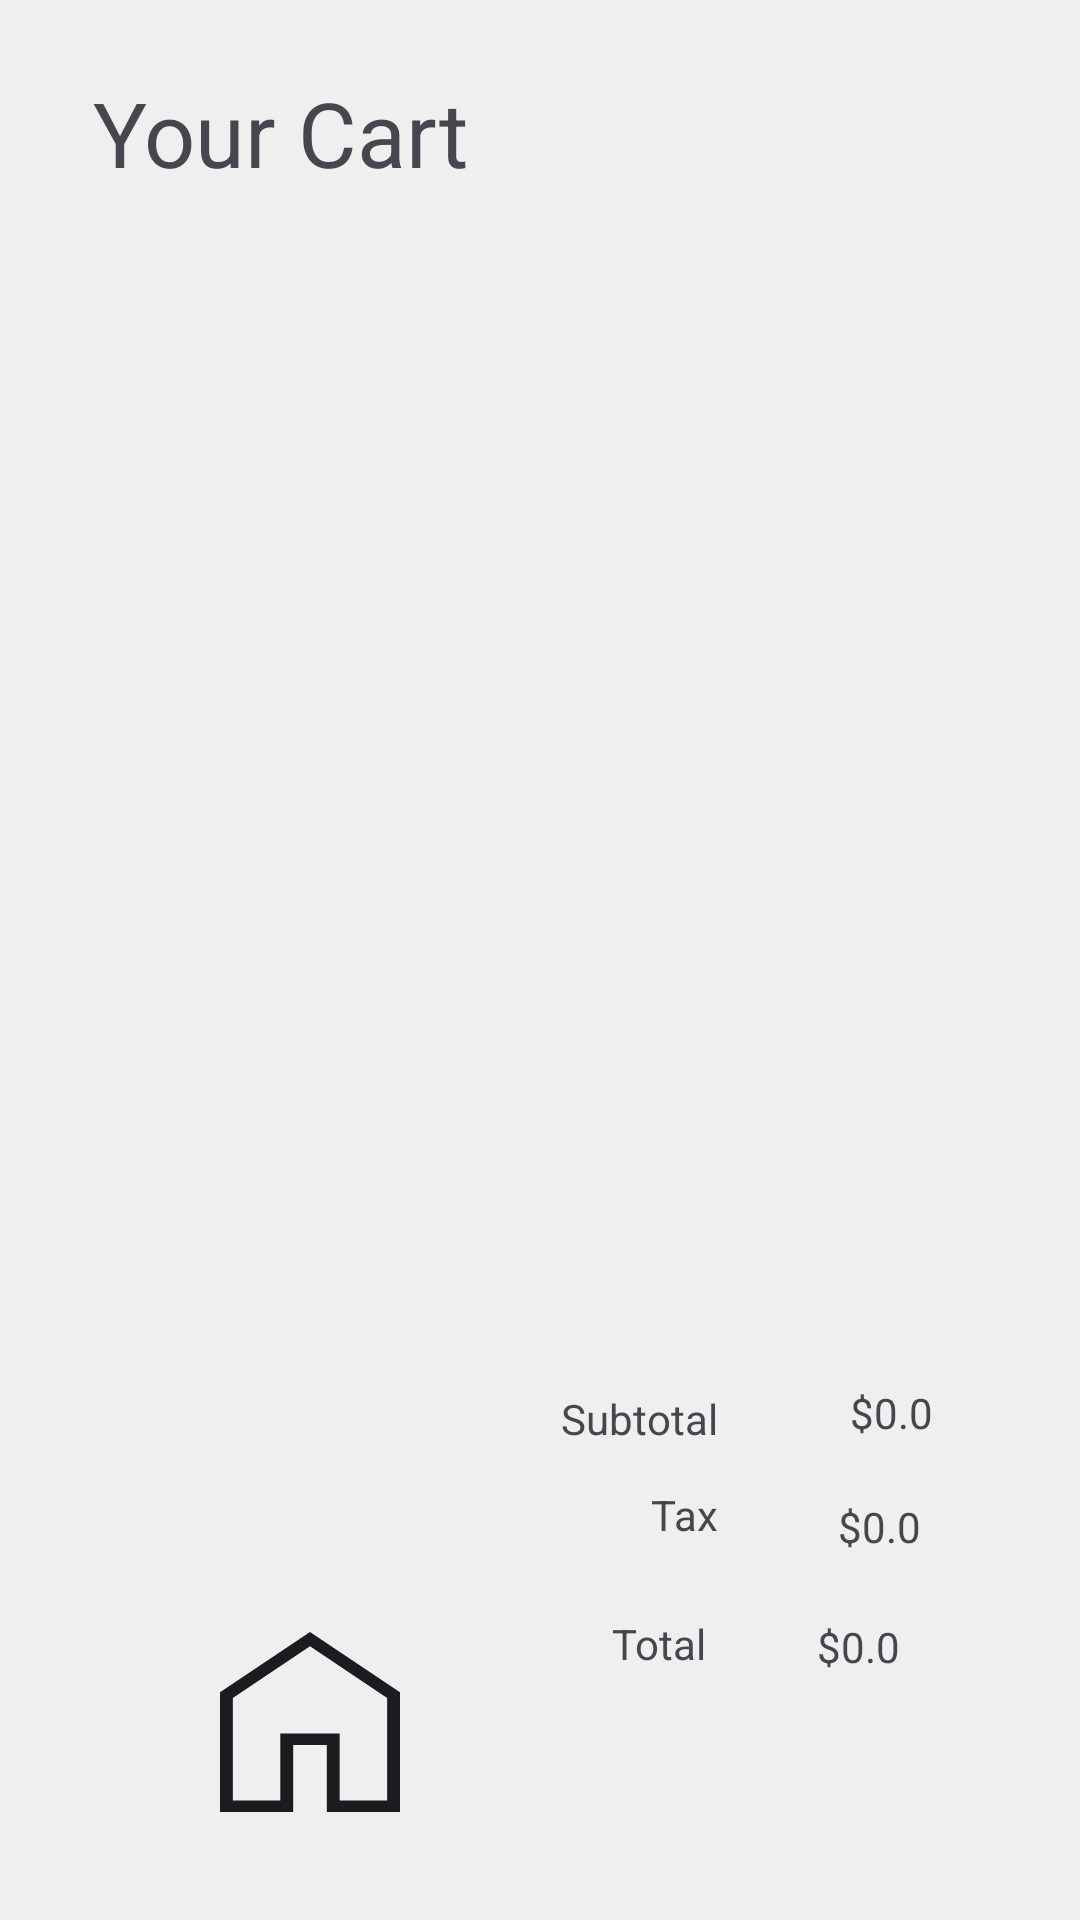

Named icons in this screenshot (1080px×1920px) and their bounding boxes, (x1, y1, x2, y2):
home: (220, 1632, 400, 1812)
